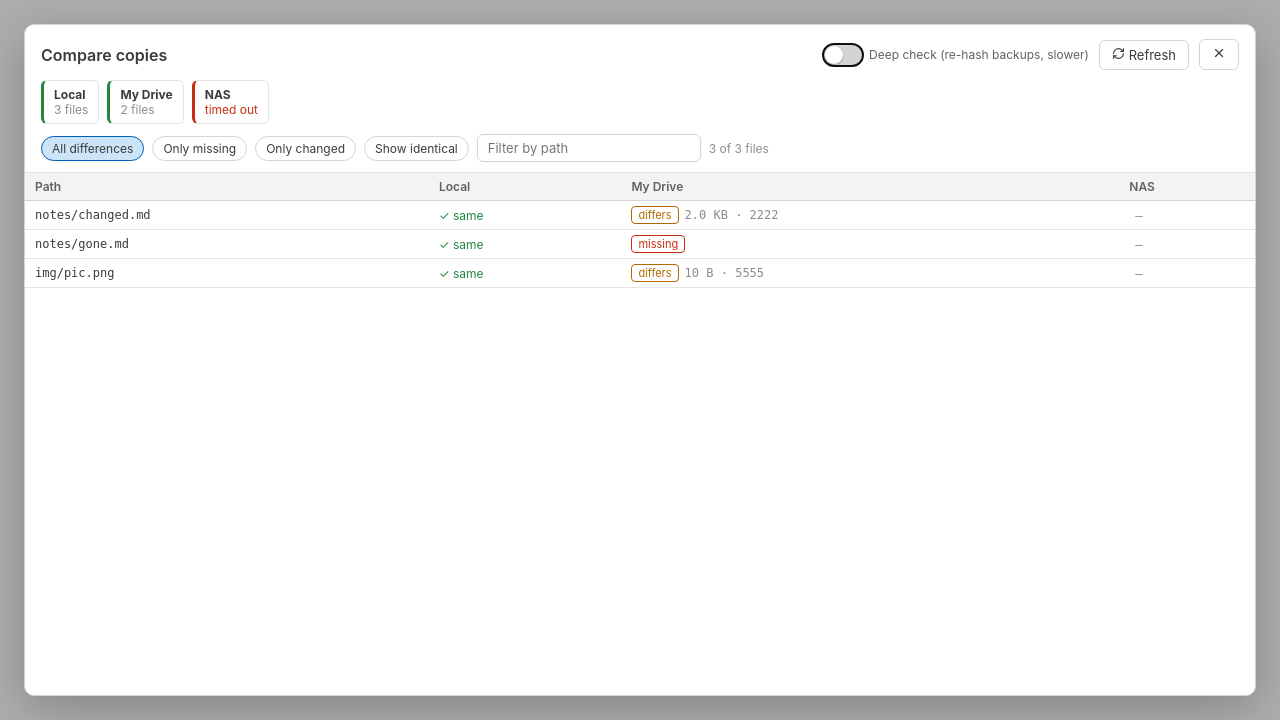
Test case: CompareModal › shows a line diff between Local and the chosen backup
The width and height of the screenshot is (1280, 720).
Click the row with test id "compare-row-notes/changed.md" at (640,215), box x1=25 y1=200 x2=1255 y2=230
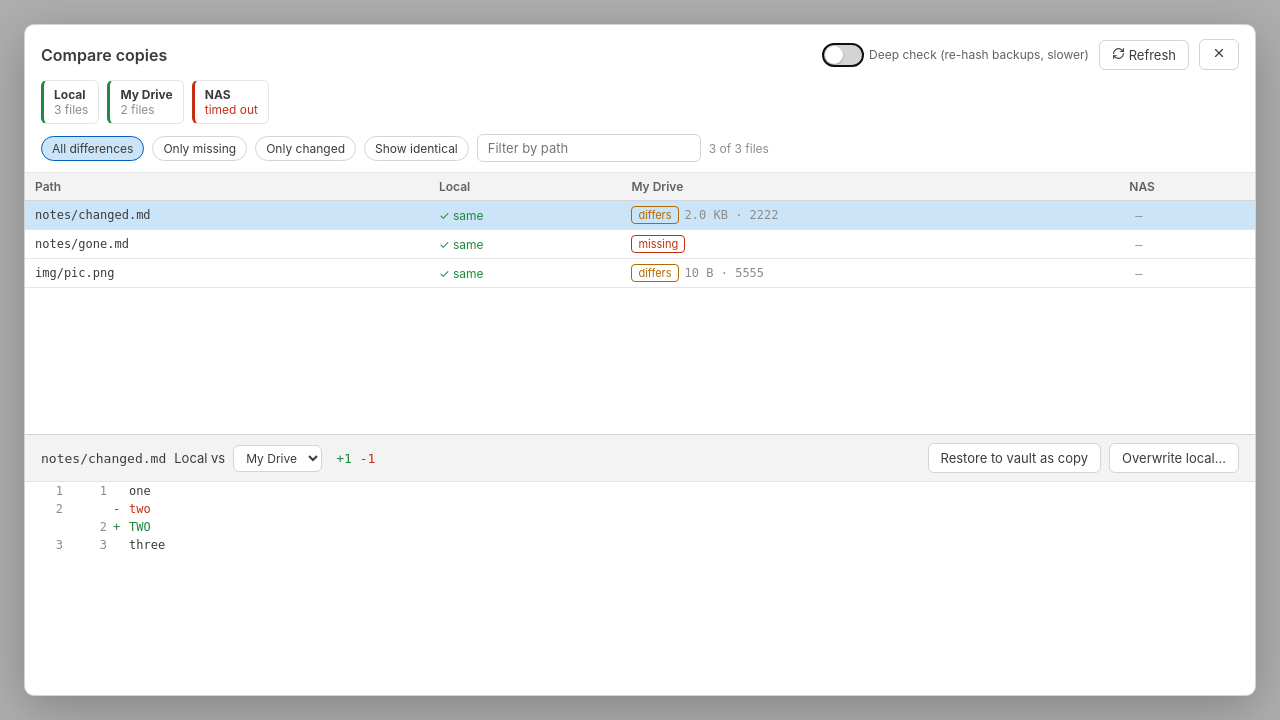
Check: the element showing "2 - two" is shown, box x1=56 y1=502 x2=151 y2=516
Check: the element showing "2 + TWO" is shown, box x1=100 y1=520 x2=151 y2=534
